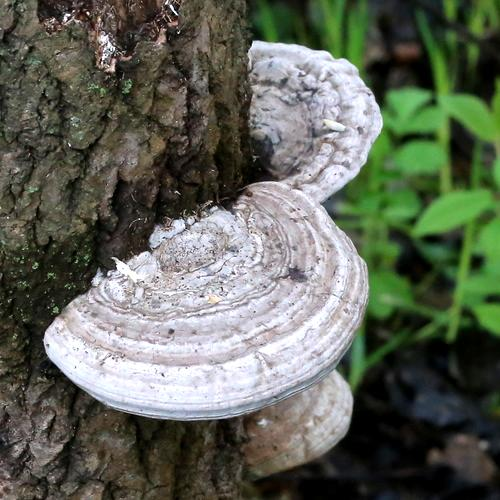Ganoderma - Fruit Body: (36, 178, 367, 418), (235, 27, 388, 177), (240, 367, 356, 478)
